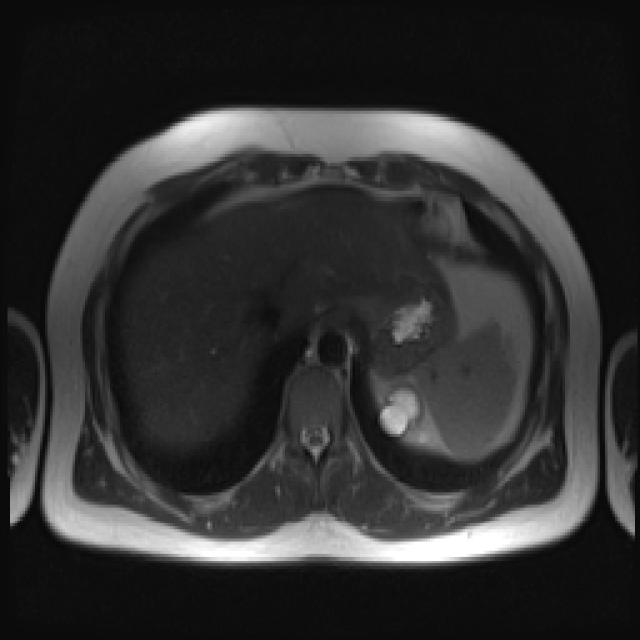sol: (379, 386, 424, 437)
